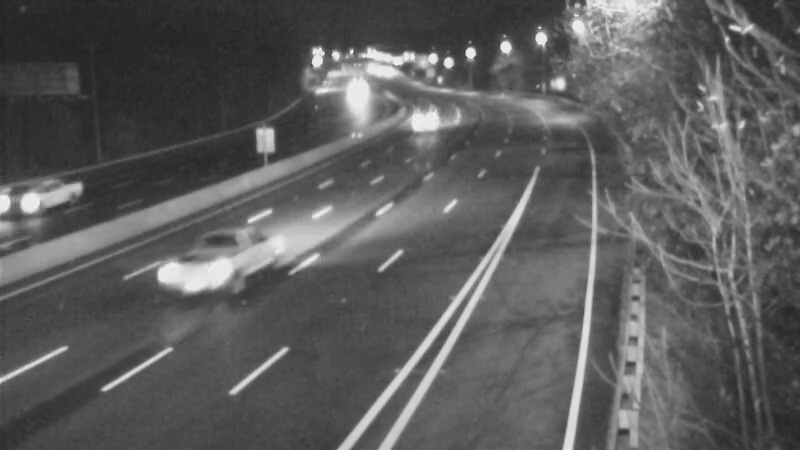vehicle: (169, 226, 249, 306), (1, 156, 79, 236), (391, 100, 441, 150), (336, 76, 386, 126)
